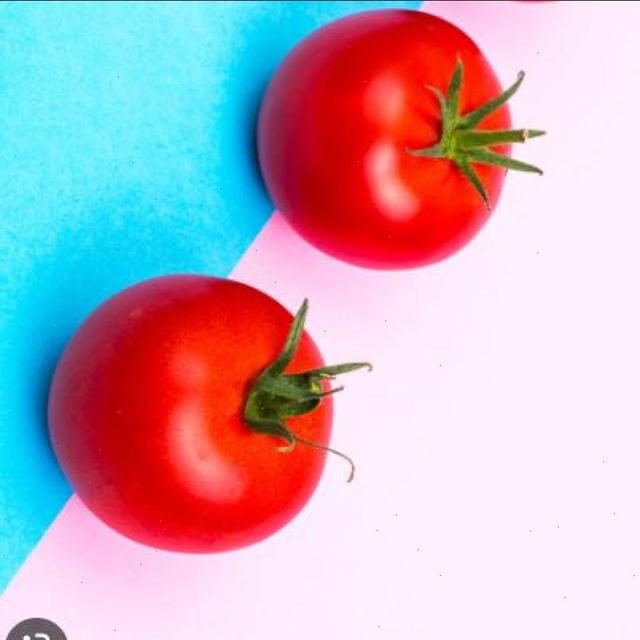Healthy Fruit: (132, 91, 259, 270)
